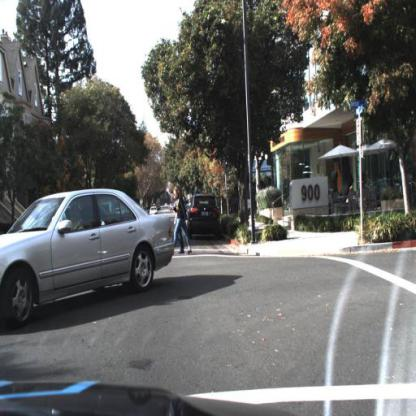car: (1, 187, 176, 334), (187, 195, 221, 243)
pedestrian: (174, 185, 192, 255), (175, 189, 184, 253)
